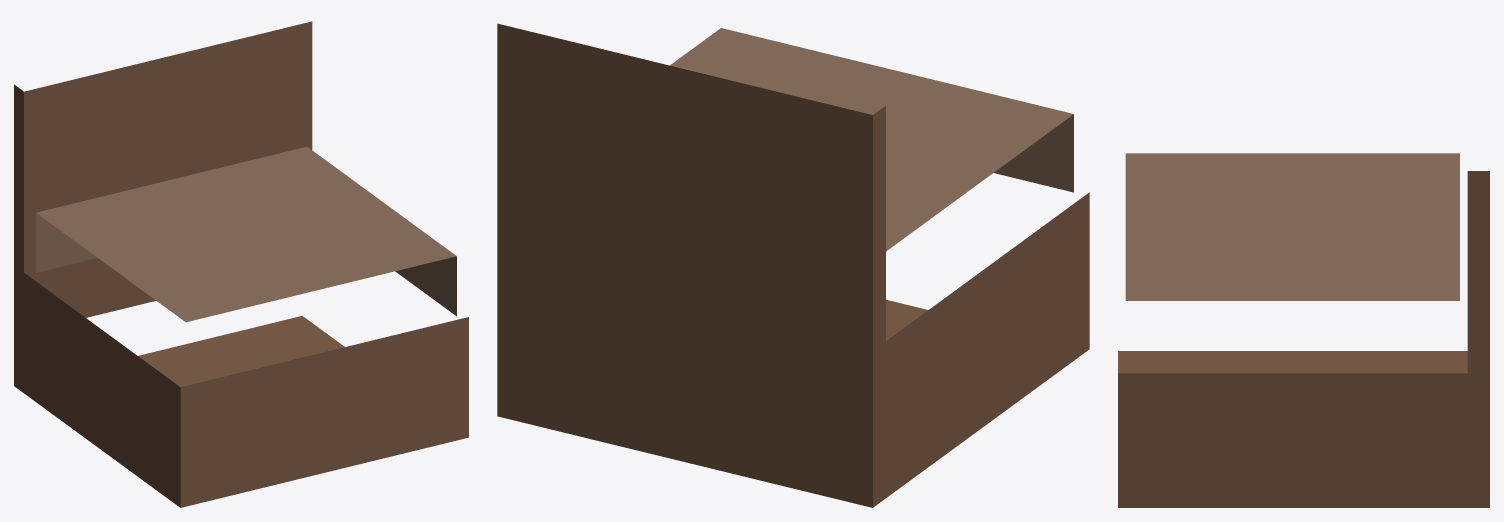
Rendered from Bed-brown.glb.
The picture shows the model from 3 angles, left to right: view 1: azimuth 30°, elevation 25°; view 2: azimuth 150°, elevation 25°; view 3: azimuth 270°, elevation 25°; orthographic projection. The views are drawn at different scales.
Parts seen in each view (by area): view 1: Bed; view 2: Bed; view 3: Bed.
Boxes of the visible parts, x1,y1,x2,y2 form: Bed: (14,21,468,507); Bed: (497,23,1089,507); Bed: (1118,153,1489,507).
Size of the model in its own units: 1 by 1 by 1.
